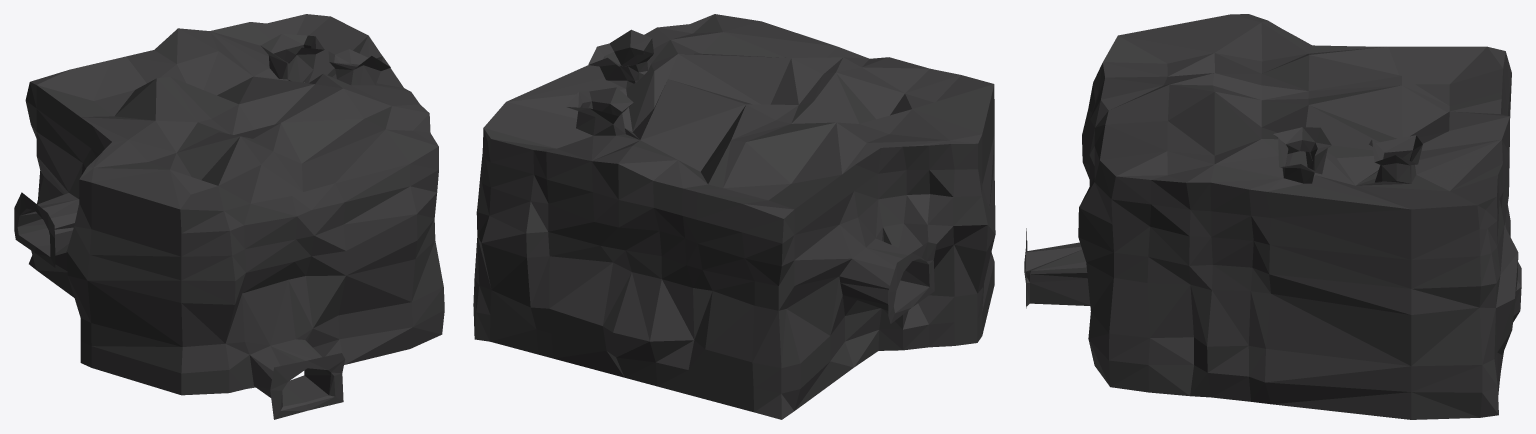
File: Cave_14B_LOD_2.fbx
3 renders of one model, left to right at view 1: azimuth 30°, elevation 25°; view 2: azimuth 150°, elevation 25°; view 3: azimuth 270°, elevation 25°, orthographic. The views are drawn at different scales.
Parts seen in each view (by area): view 1: polySurface1227; view 2: polySurface1227; view 3: polySurface1227.
Boxes of the visible parts, x1,y1,x2,y2 form: polySurface1227: [14, 14, 444, 419]; polySurface1227: [473, 14, 995, 419]; polySurface1227: [1024, 14, 1521, 419].
Size of the model in its own units: 45.64 by 26.92 by 46.42.
